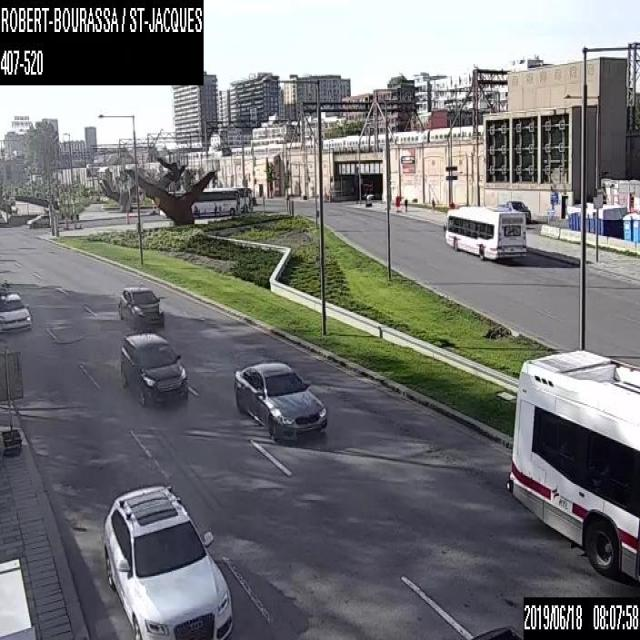bus: (504, 347, 639, 584), (443, 204, 527, 260), (160, 185, 252, 215)
construction: (394, 195, 399, 212)
pedestrian: (403, 197, 408, 212)
vehicle: (101, 484, 232, 639), (232, 358, 328, 442), (120, 330, 188, 407), (119, 286, 164, 328), (0, 289, 31, 332), (470, 622, 522, 638), (26, 212, 52, 227)
